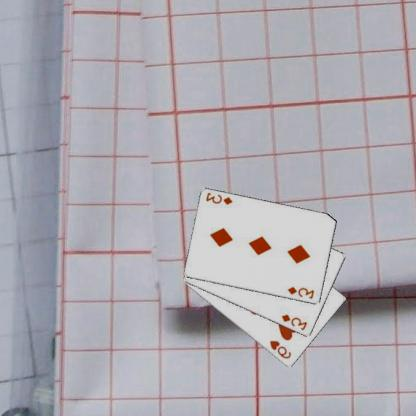3D: (280, 312, 310, 332), (287, 284, 317, 300), (206, 190, 235, 206)
6H: (268, 338, 294, 360)
